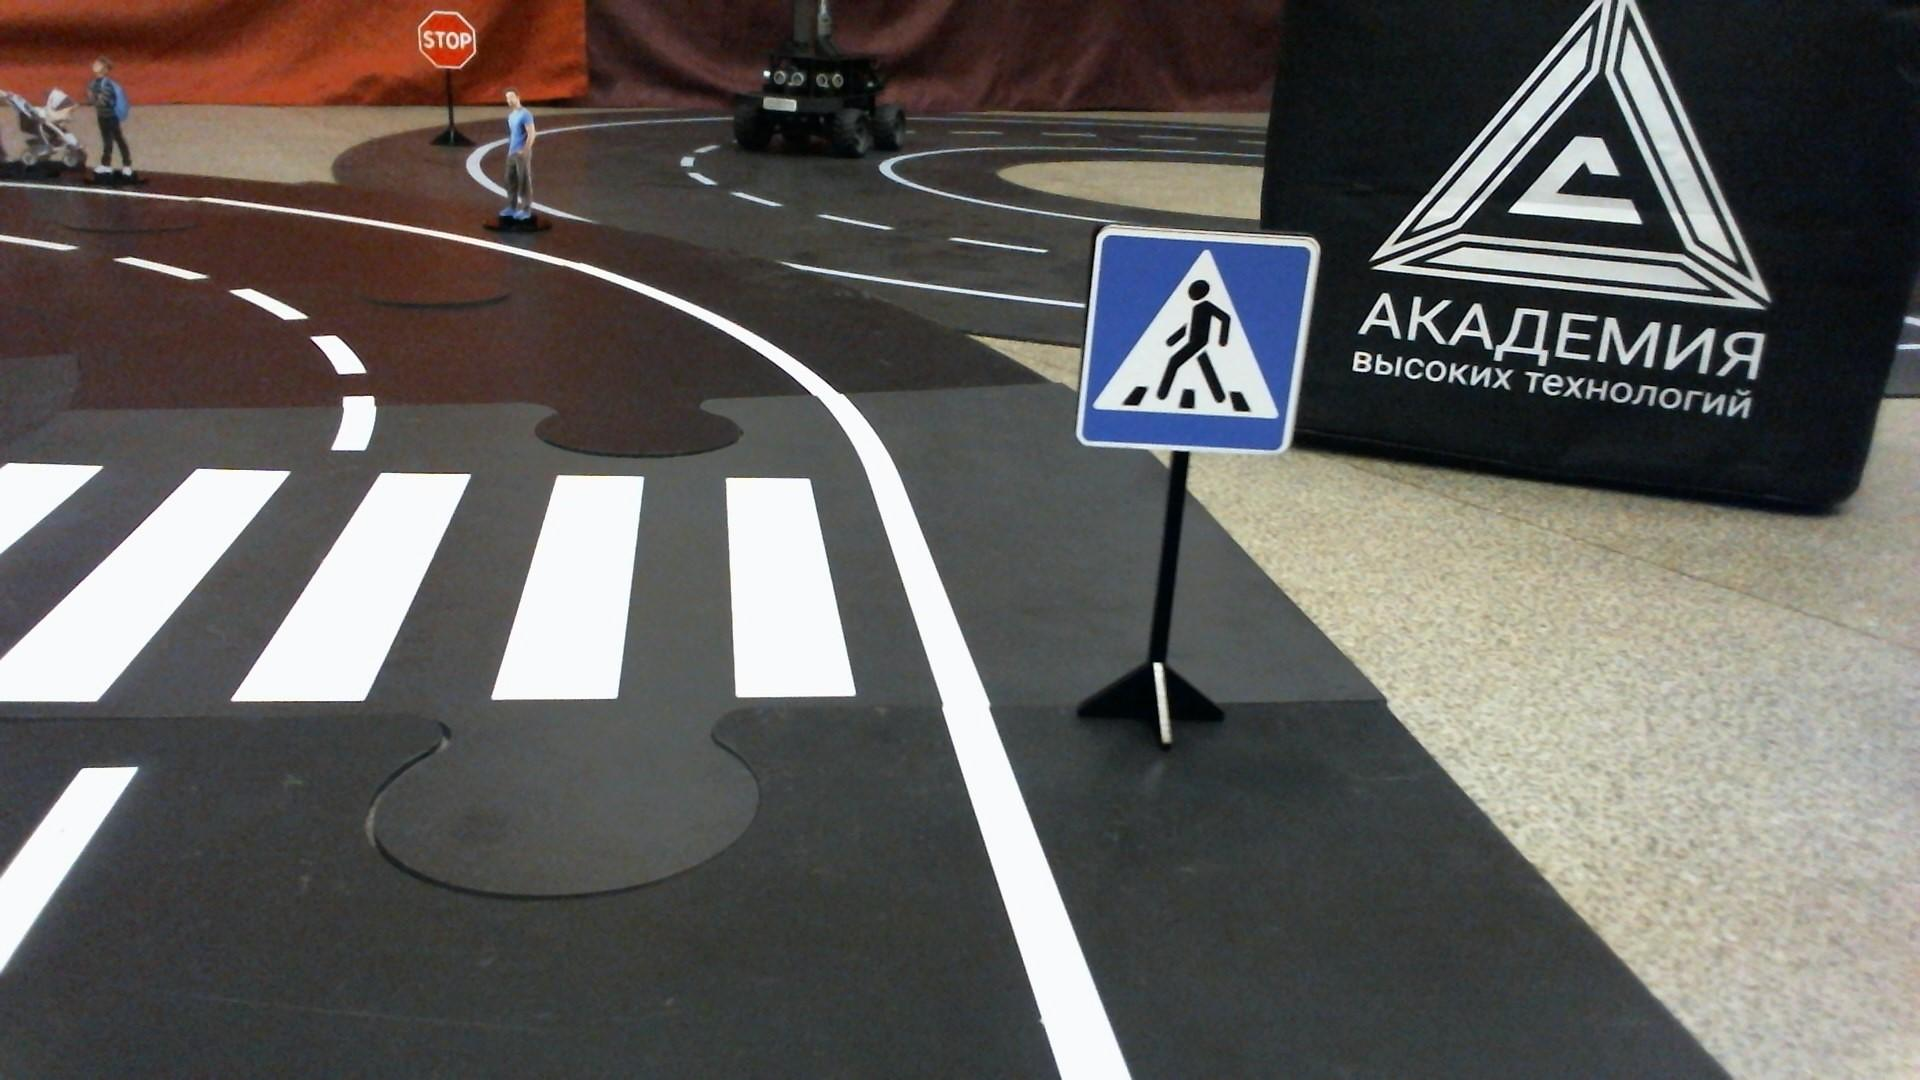crossing: (0, 435, 953, 722)
person: (493, 85, 542, 230), (87, 60, 138, 178)
